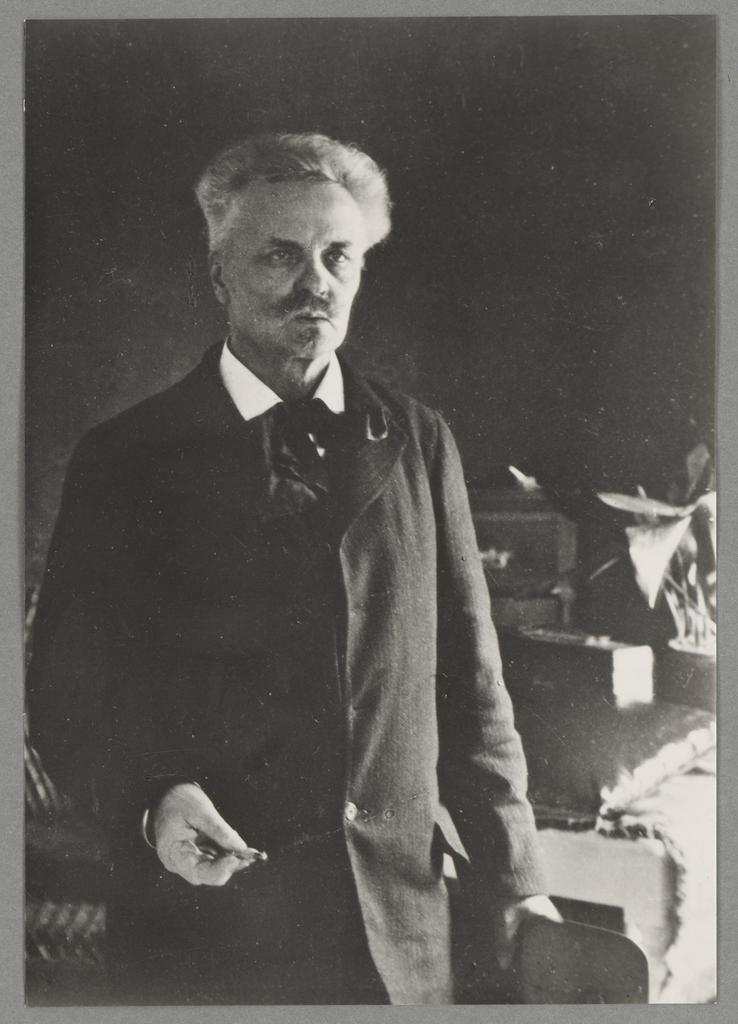Human_hand: (140, 780, 271, 899), (488, 892, 566, 967)
